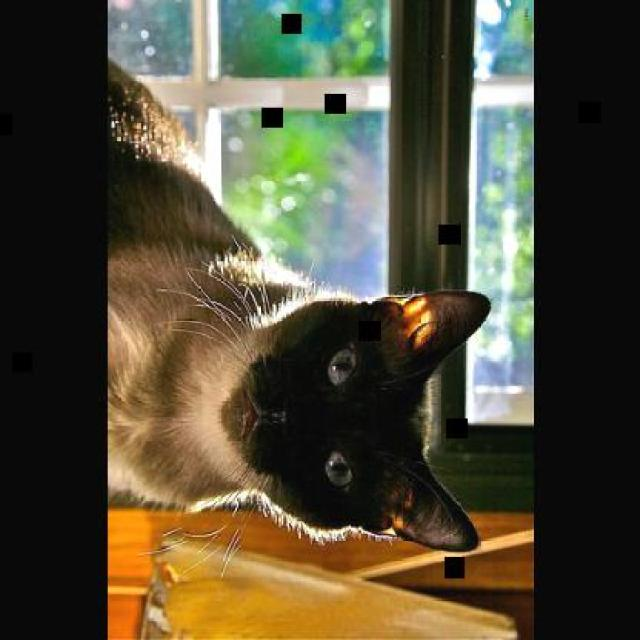unauthorized: (104, 56, 490, 578)
